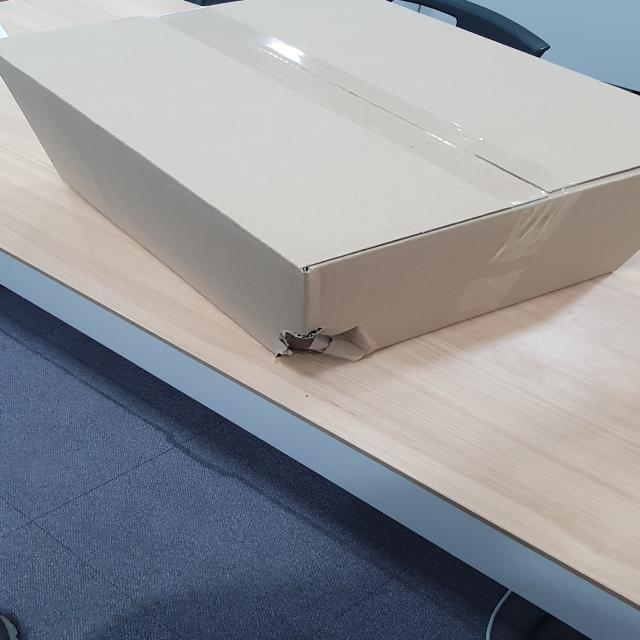hole: (272, 318, 381, 370)
